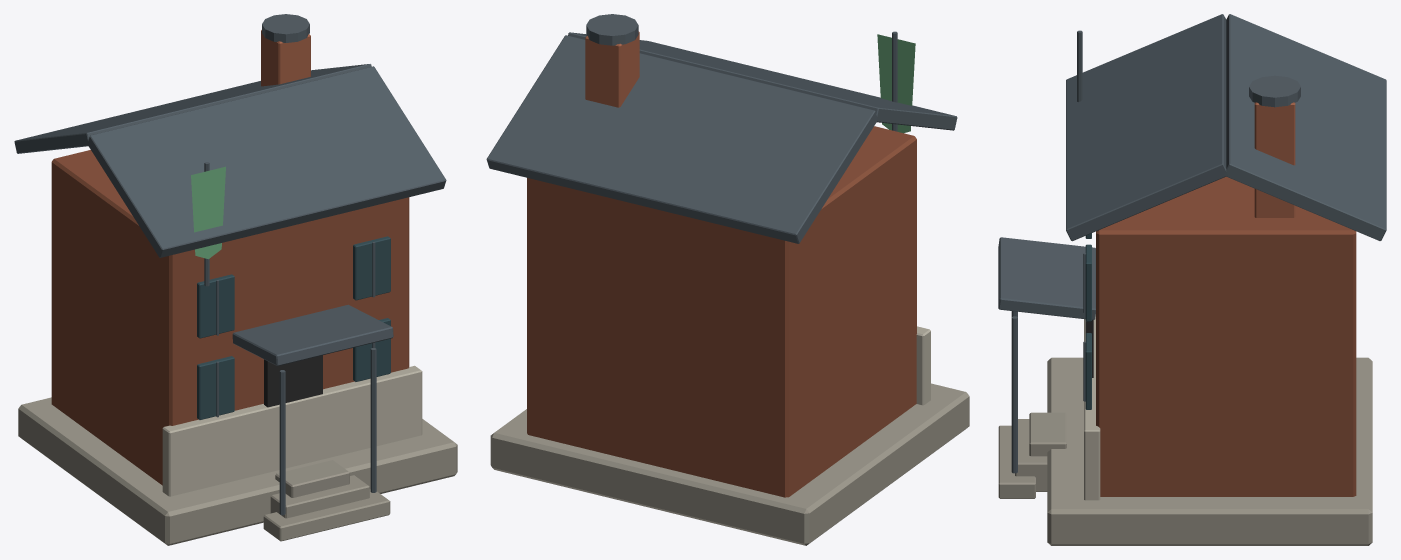
File: edificio-house-e4-BZUT5Djd.glb
3 views of the same model, side by side, from view 1: azimuth 30°, elevation 25°; view 2: azimuth 150°, elevation 25°; view 3: azimuth 270°, elevation 25° (orthographic). The views are drawn at different scales.
Visible parts, largest first — view 1: casa_e4_detalles, casa_e4_envolvente, casa_e4_team_color; view 2: casa_e4_envolvente, casa_e4_detalles, casa_e4_team_color; view 3: casa_e4_envolvente, casa_e4_detalles.
Part boxes in pixels (x1,y1,x2,y2): casa_e4_detalles: [14, 14, 446, 515]; casa_e4_envolvente: [18, 150, 457, 545]; casa_e4_team_color: [191, 166, 225, 259]; casa_e4_envolvente: [490, 126, 969, 545]; casa_e4_detalles: [486, 14, 957, 405]; casa_e4_team_color: [877, 34, 915, 133]; casa_e4_envolvente: [998, 176, 1372, 545]; casa_e4_detalles: [998, 14, 1386, 500].
Bounding box in the file's own units: 45 × 57.65 × 47.76.
